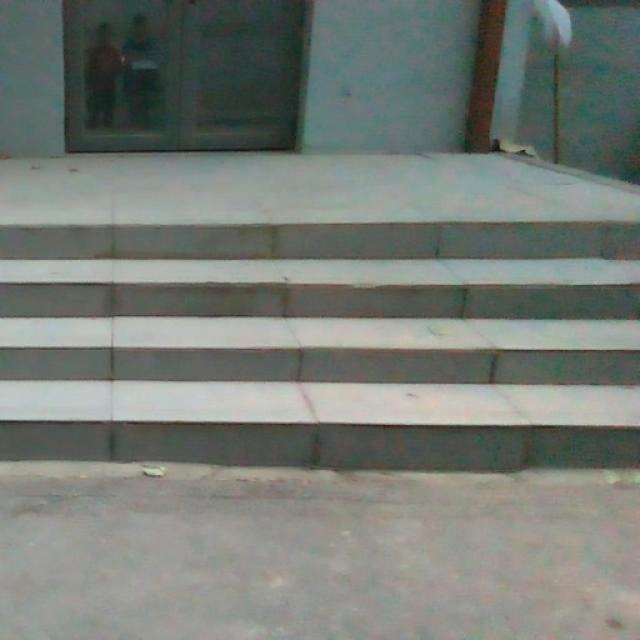stair: (6, 203, 640, 475)
